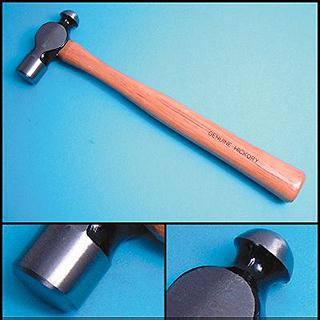hammer: (14, 6, 306, 201)
